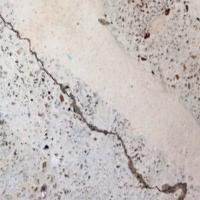crack: (1, 11, 189, 199)
